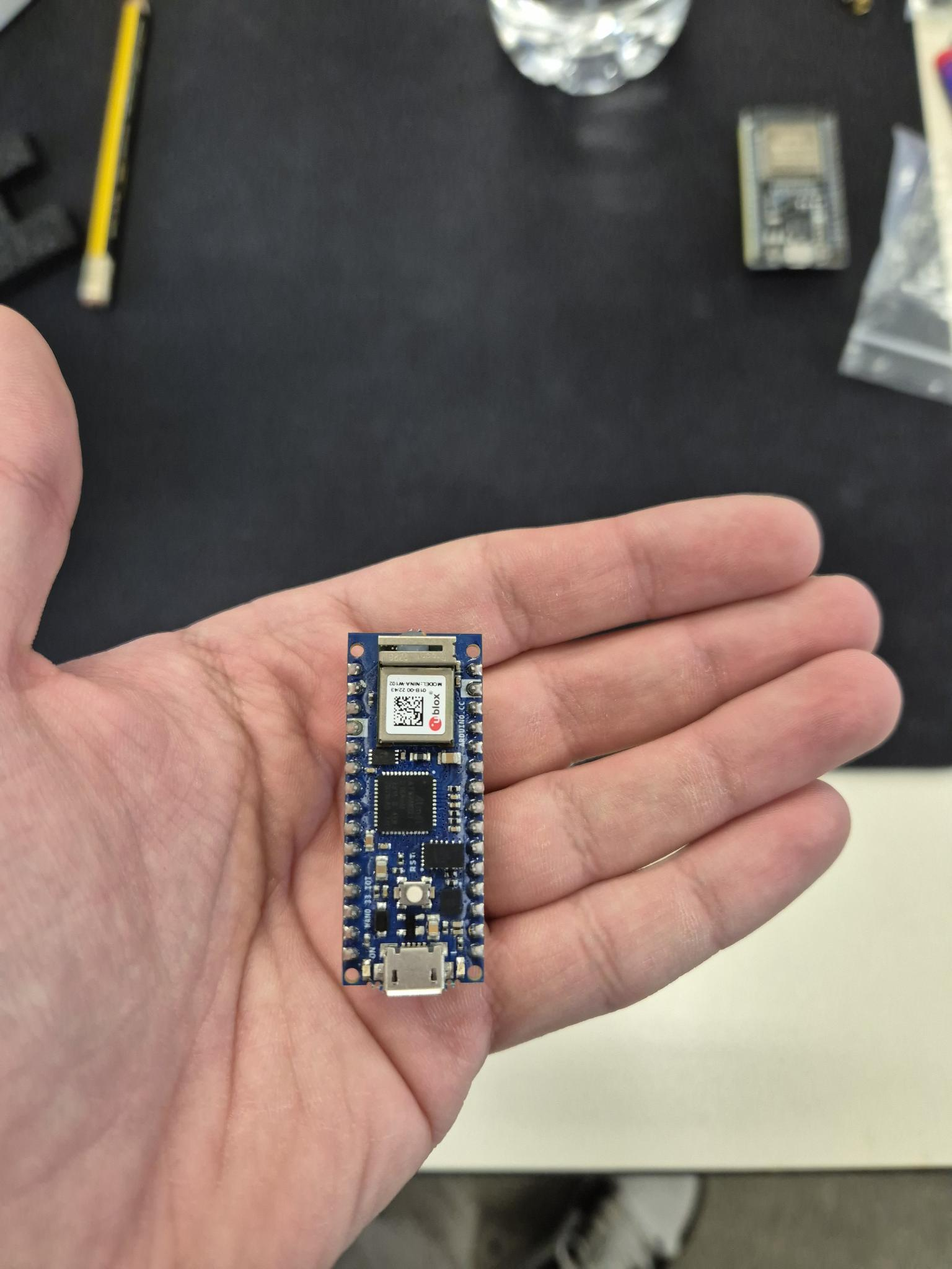arduino-nano-iot-33: (343, 632, 483, 995)
